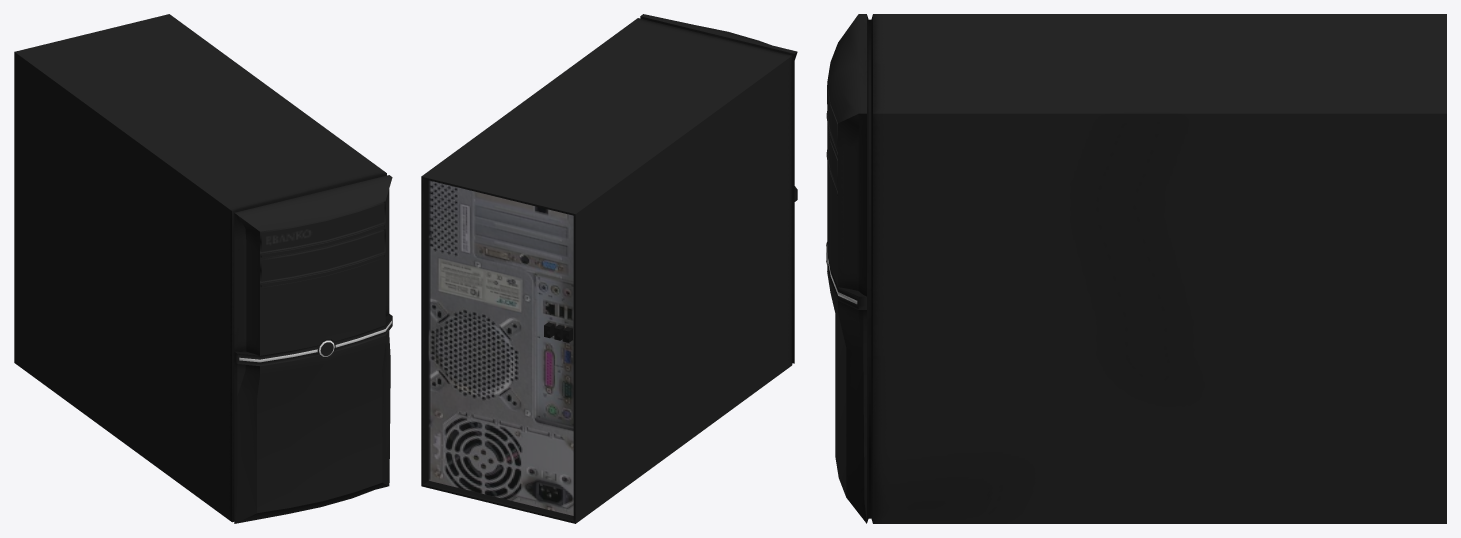
Rendered from CleanComputer.fbx.
3 renders of one model, left to right at view 1: azimuth 30°, elevation 25°; view 2: azimuth 150°, elevation 25°; view 3: azimuth 270°, elevation 25°, orthographic. The views are drawn at different scales.
Visible parts, largest first — view 1: Cube; view 2: Cube; view 3: Cube.
Boxes of the visible parts, x1=… form: Cube: x1=14, y1=14, x2=392, y2=523; Cube: x1=421, y1=14, x2=797, y2=523; Cube: x1=826, y1=14, x2=1446, y2=523.
Bounding box in the file's own units: 123 × 235 × 323.
